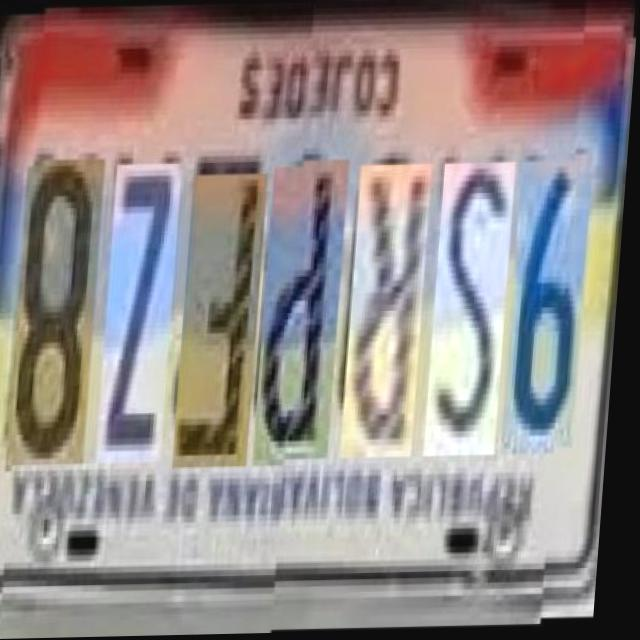8: (12, 159, 108, 465)
9: (506, 169, 596, 464)
f: (179, 175, 271, 470)
p: (259, 167, 352, 468)
r: (346, 172, 435, 467)
s: (430, 171, 519, 465)
z: (103, 164, 185, 464)
